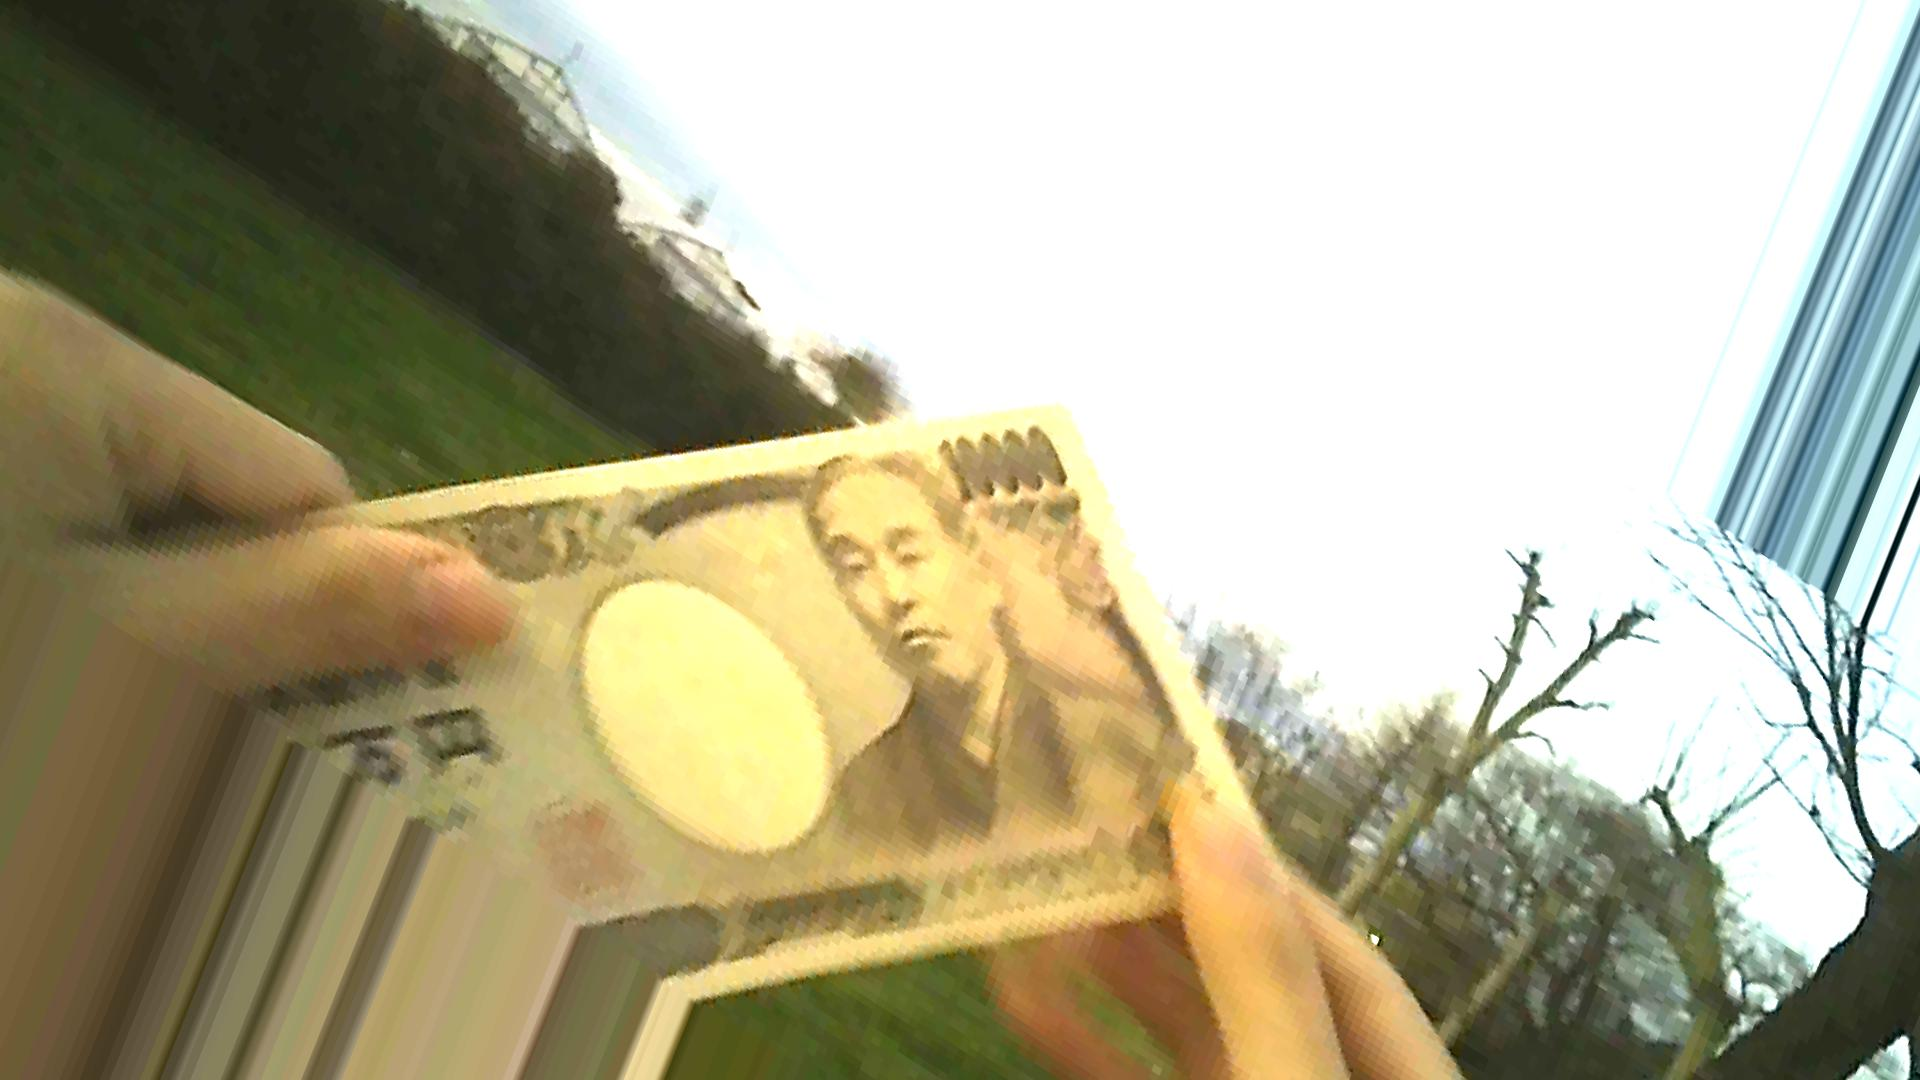10,000 Yen: (219, 345, 1282, 964)
